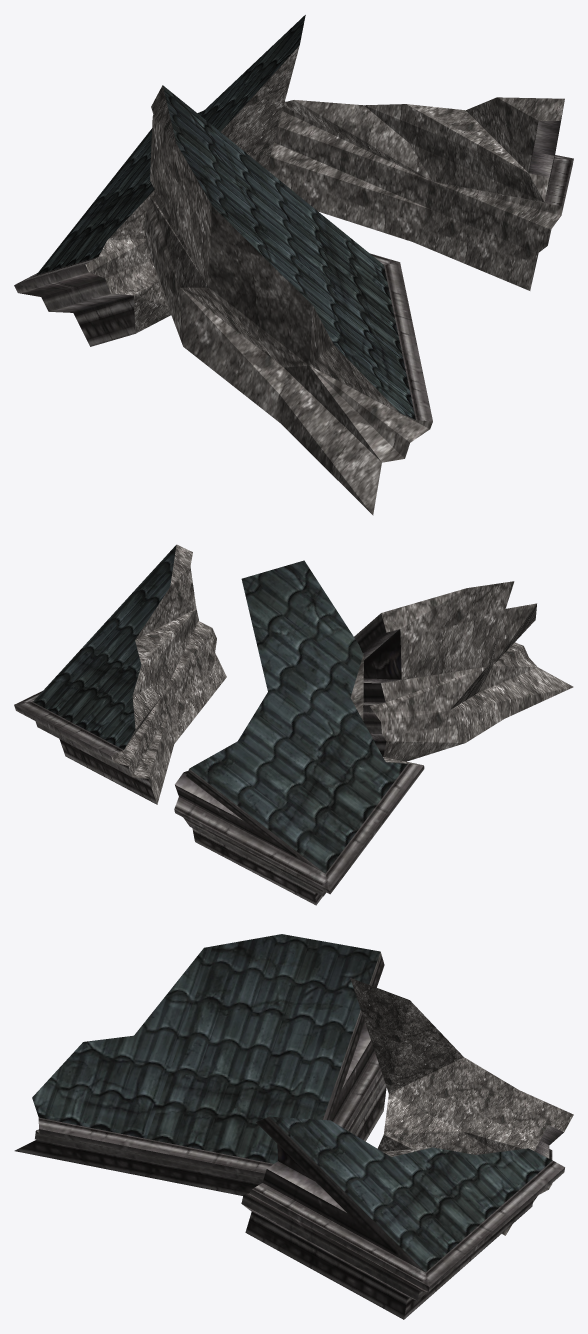
3 renders of one model, top to bottom at view 1: azimuth 30°, elevation 25°; view 2: azimuth 150°, elevation 25°; view 3: azimuth 270°, elevation 25°, orthographic. The views are drawn at different scales.
Visible parts, largest first — view 1: object90; view 2: object90; view 3: object90.
Part boxes in pixels (left/top/right/bottom): object90: left=14, top=15, right=573, bottom=515; object90: left=14, top=544, right=573, bottom=905; object90: left=14, top=934, right=573, bottom=1319.
Bounding box in the file's own units: 536 × 348 × 640.
Materials: 3 (3 with a texture image).
